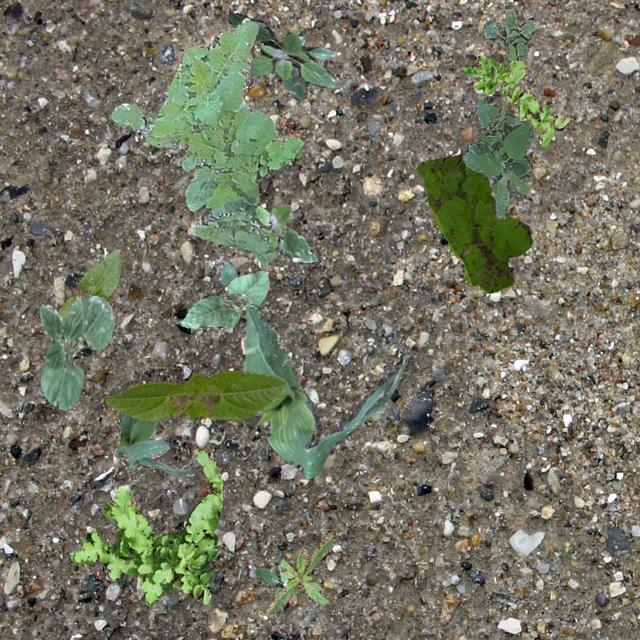crop: (214, 255, 412, 478), (104, 369, 284, 422), (39, 294, 114, 408), (42, 248, 122, 334), (178, 268, 268, 328), (112, 411, 194, 476)
weed: (110, 18, 302, 260), (72, 446, 222, 604), (416, 152, 532, 292), (462, 55, 568, 146), (226, 12, 338, 98), (462, 98, 532, 218), (266, 534, 334, 614), (253, 203, 316, 270), (482, 8, 534, 78), (252, 564, 296, 596)
